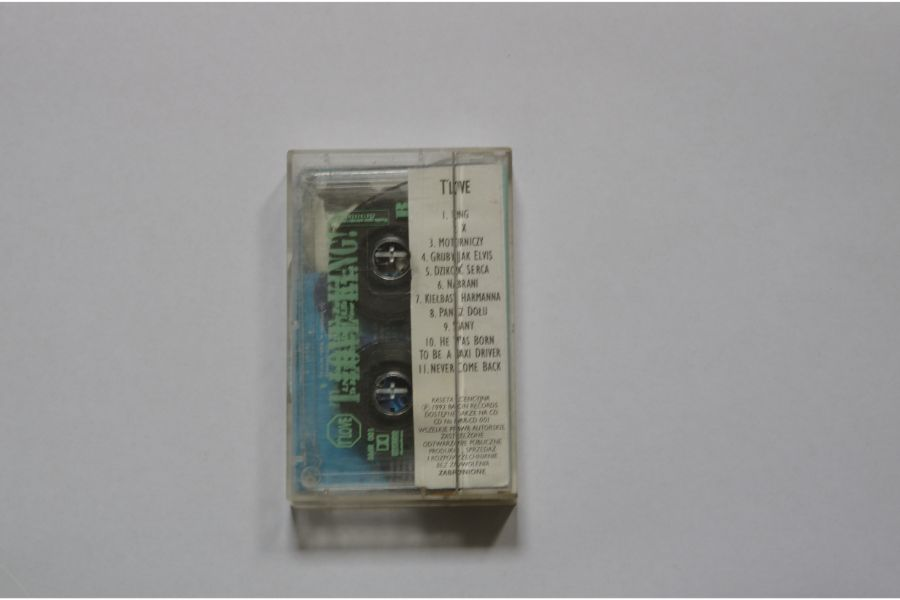album: (282, 145, 520, 504)
